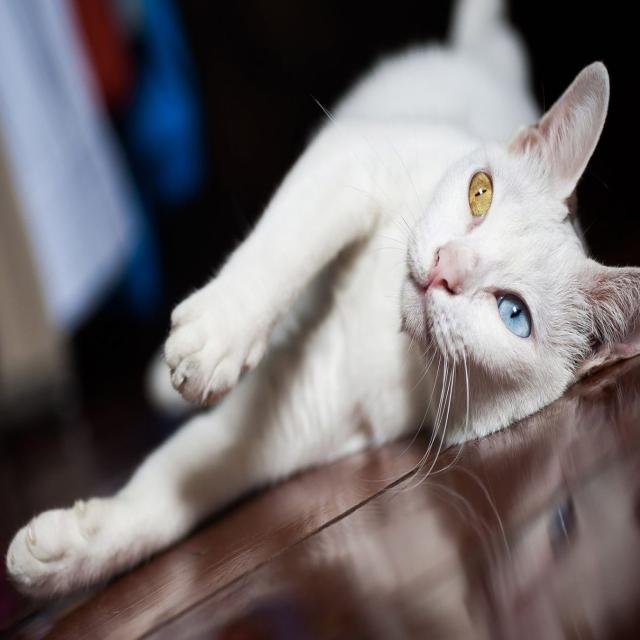Khao Manee: (0, 0, 640, 609)
